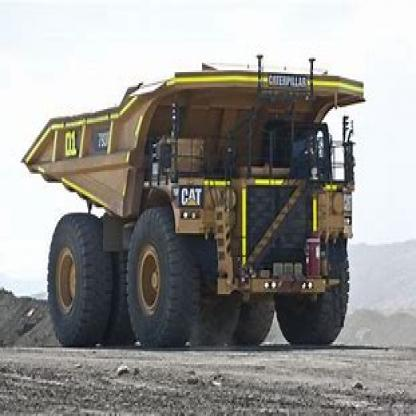dump_truck: (16, 47, 379, 352)
